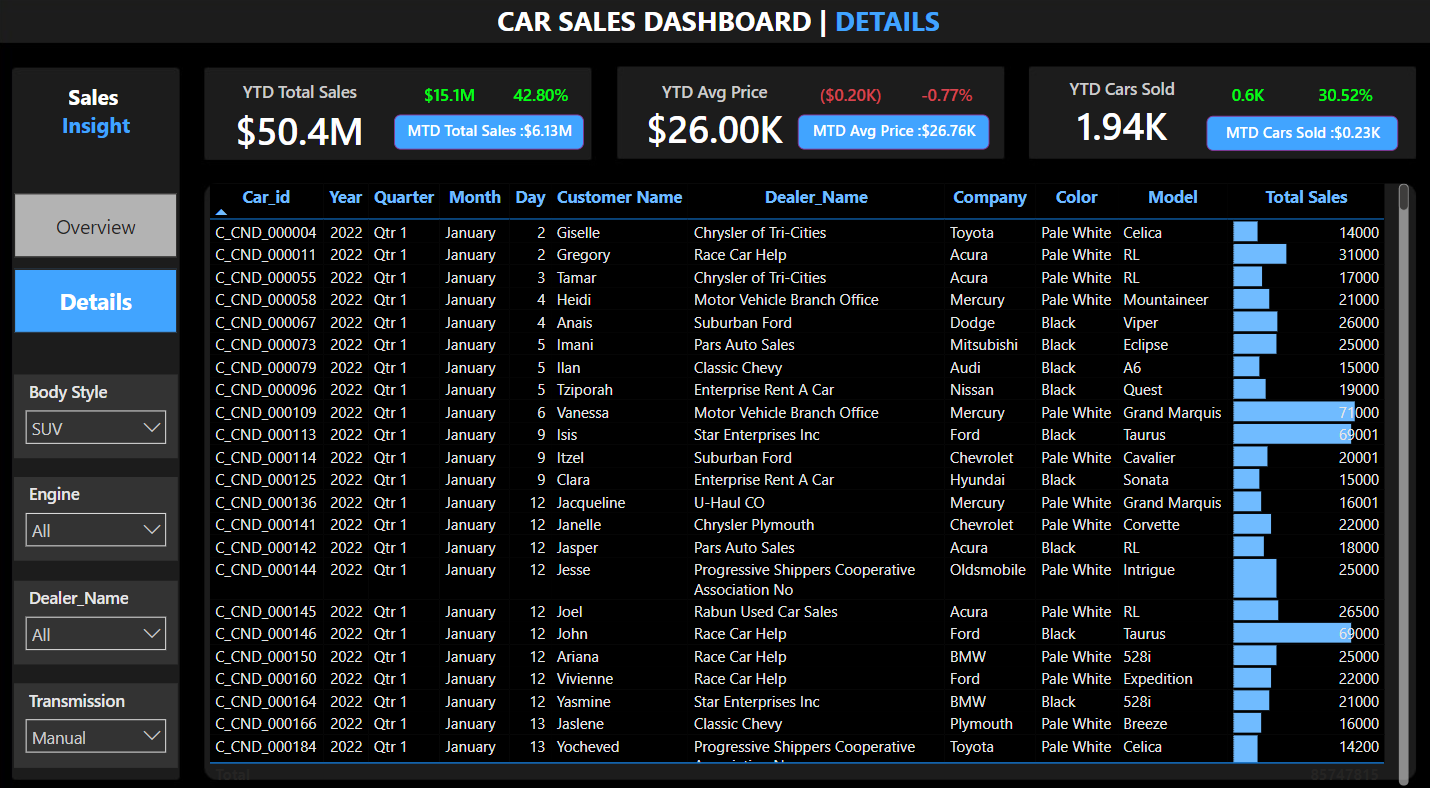

This screenshot's page, from the dashboard's own definition file:
{"tool":"powerbi","page":{"name":"Details","canvas":[1280,720],"ordinal":1},"visuals":[{"type":"card","title":"YTD Total Sales","fields":{"Values":["car_data.YTD Total Sales"]},"box":[186.2,73.8,170,71.2],"z":0},{"type":"card","fields":{"Values":["car_data.Sales Difference"]},"box":[360,73.8,90,31.2],"z":1000},{"type":"card","fields":{"Values":["car_data.YoY Sales Growth"]},"box":[441.2,73.8,90,31.2],"z":2000},{"type":"card","title":"MTD Total Sales :","fields":{"Values":["car_data.MTD KPI"]},"box":[355.8,104.9,168.8,31.4],"z":3000},{"type":"card","title":"YTD Avg Price","fields":{"Values":["car_data.YTD Avg Price"]},"box":[555,73.8,170,67.5],"z":4000},{"type":"card","fields":{"Values":["car_data.Avg Price Diff"]},"box":[713.8,73.8,96.2,31.2],"z":5000},{"type":"card","title":"MTD Total Sales :","fields":{"Values":["car_data.MTD Avg KPI"]},"box":[714,104.9,170.1,31.4],"z":6000},{"type":"card","fields":{"Values":["car_data.YOY Avg Price Growth"]},"box":[798.8,73.8,96.2,31.2],"z":7000},{"type":"card","title":"YTD Cars Sold","fields":{"Values":["car_data.YTD Cars Sold"]},"box":[917.5,71.2,170,67.5],"z":8000},{"type":"card","fields":{"Values":["car_data.Cars Sold Diff"]},"box":[1066.2,73.8,96.2,31.2],"z":9000},{"type":"card","fields":{"Values":["car_data.YOY Cars Sold Growth"]},"box":[1153.8,73.8,96.2,31.2],"z":10000},{"type":"card","title":"MTD Total Sales :","fields":{"Values":["car_data.MTD Cars Sold KPI"]},"box":[1077.5,105,170,31.2],"z":11000},{"type":"textbox","box":[425,0,443.8,47],"z":12000},{"type":"slicer","fields":{"Values":["car_data.Body Style"]},"box":[17.8,335.6,145.6,74.4],"z":13000},{"type":"slicer","fields":{"Values":["car_data.Dealer_Name"]},"box":[17.8,518.9,145.6,74.4],"z":14000},{"type":"slicer","fields":{"Values":["car_data.Transmission"]},"box":[17.8,610,145.6,75.6],"z":15000},{"type":"slicer","fields":{"Values":["car_data.Engine"]},"box":[17.8,426.7,145.6,74.4],"z":16000},{"type":"tableEx","fields":{"Values":["car_data.Car_id","Calender Table.Date.Variation.Date Hierarchy.Year","Calender Table.Date.Variation.Date Hierarchy.Quarter","Calender Table.Date.Variation.Date Hierarchy.Month","Calender Table.Date.Variation.Date Hierarchy.Day","car_data.Customer Name","car_data.Dealer_Name","car_data.Company","car_data.Color","car_data.Model","car_data.Total Sales"]},"box":[185.7,161.6,1077,545.1],"z":17000},{"type":"pageNavigator","box":[18.1,174.9,145.9,124.2],"z":18000},{"type":"textbox","box":[18.1,71.2,145.9,65.1],"z":19000}]}

Visuals, with their boxes in screenshot pixels (x1, y1, x2, y2), scaled from the page's 1280x720 canvas onto the 1430x788 screenshot:
"YTD Total Sales" card: [left=208, top=81, right=398, bottom=159]
card - car_data.Sales Difference: [left=402, top=81, right=503, bottom=115]
card - car_data.YoY Sales Growth: [left=493, top=81, right=593, bottom=115]
"MTD Total Sales :" card: [left=397, top=115, right=586, bottom=149]
"YTD Avg Price" card: [left=620, top=81, right=810, bottom=155]
card - car_data.Avg Price Diff: [left=797, top=81, right=905, bottom=115]
"MTD Total Sales :" card: [left=798, top=115, right=988, bottom=149]
card - car_data.YOY Avg Price Growth: [left=892, top=81, right=1000, bottom=115]
"YTD Cars Sold" card: [left=1025, top=78, right=1215, bottom=152]
card - car_data.Cars Sold Diff: [left=1191, top=81, right=1299, bottom=115]
card - car_data.YOY Cars Sold Growth: [left=1289, top=81, right=1396, bottom=115]
"MTD Total Sales :" card: [left=1204, top=115, right=1394, bottom=149]
textbox: [left=475, top=0, right=971, bottom=51]
slicer - car_data.Body Style: [left=20, top=367, right=183, bottom=449]
slicer - car_data.Dealer_Name: [left=20, top=568, right=183, bottom=649]
slicer - car_data.Transmission: [left=20, top=668, right=183, bottom=750]
slicer - car_data.Engine: [left=20, top=467, right=183, bottom=548]
tableEx - car_data.Car_id x Calender Table.Date.Variation.Date Hierarchy.Year: [left=207, top=177, right=1411, bottom=773]
pageNavigator: [left=20, top=191, right=183, bottom=327]
textbox: [left=20, top=78, right=183, bottom=149]
